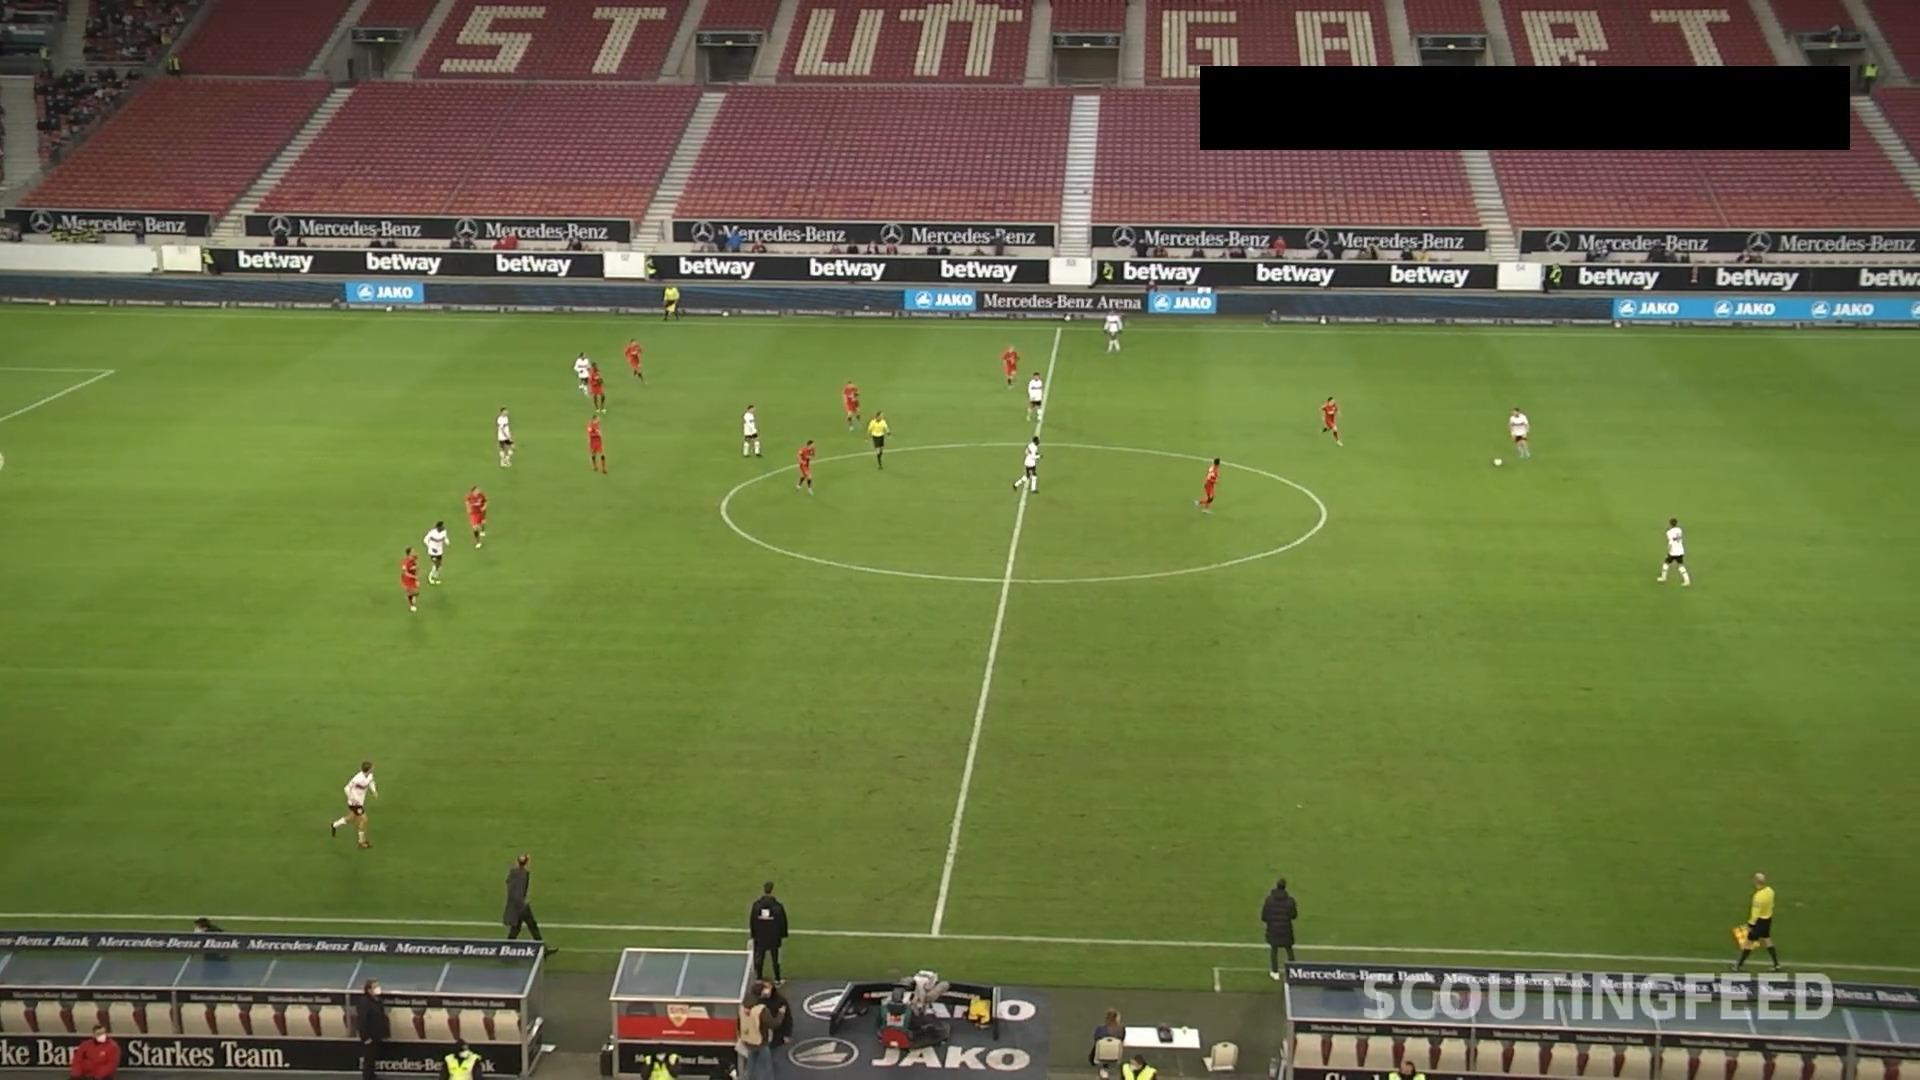ball: (1493, 456, 1505, 467)
